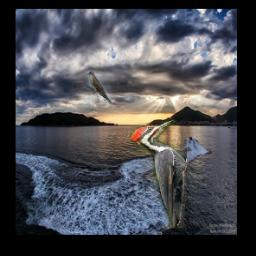Cuckoo: (86, 72, 112, 104)
Woodpecker: (130, 120, 187, 229)
